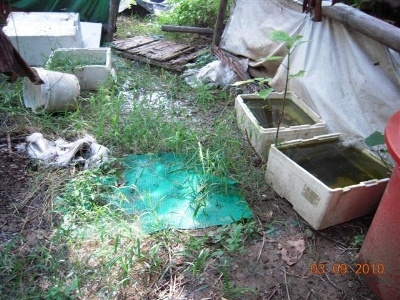bucket: (22, 67, 80, 114)
plastic_bag: (304, 18, 400, 128), (122, 155, 247, 225), (222, 1, 304, 56), (187, 57, 245, 88)
styrofoam: (263, 133, 392, 231), (234, 90, 327, 156), (1, 10, 84, 66), (45, 46, 113, 88)
